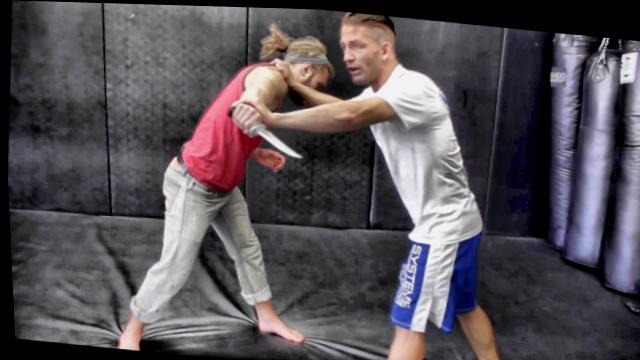knife: (218, 97, 309, 162)
